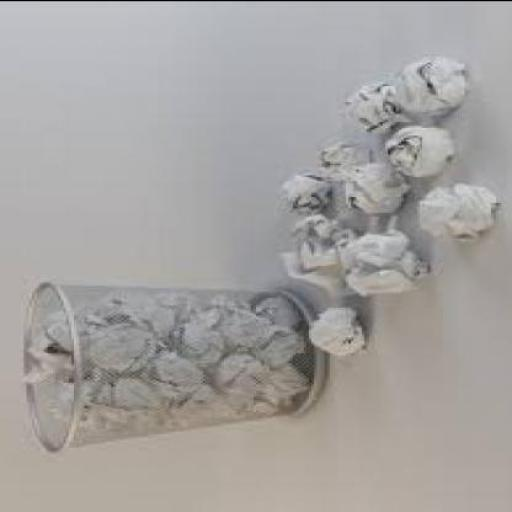paper: (335, 229, 428, 303), (412, 184, 496, 241), (280, 216, 348, 282), (380, 126, 451, 180), (396, 58, 464, 114), (340, 162, 412, 213), (338, 83, 412, 132), (309, 304, 367, 356), (166, 314, 224, 364), (48, 379, 112, 423), (89, 328, 153, 372), (147, 353, 209, 398), (18, 334, 72, 380), (274, 173, 328, 218), (312, 142, 370, 182), (211, 310, 269, 350), (108, 377, 166, 413), (97, 292, 159, 324), (214, 354, 264, 393), (251, 292, 298, 327), (46, 310, 92, 345), (266, 364, 306, 403), (261, 332, 306, 364), (190, 393, 235, 419), (148, 292, 198, 312), (232, 395, 269, 417)
